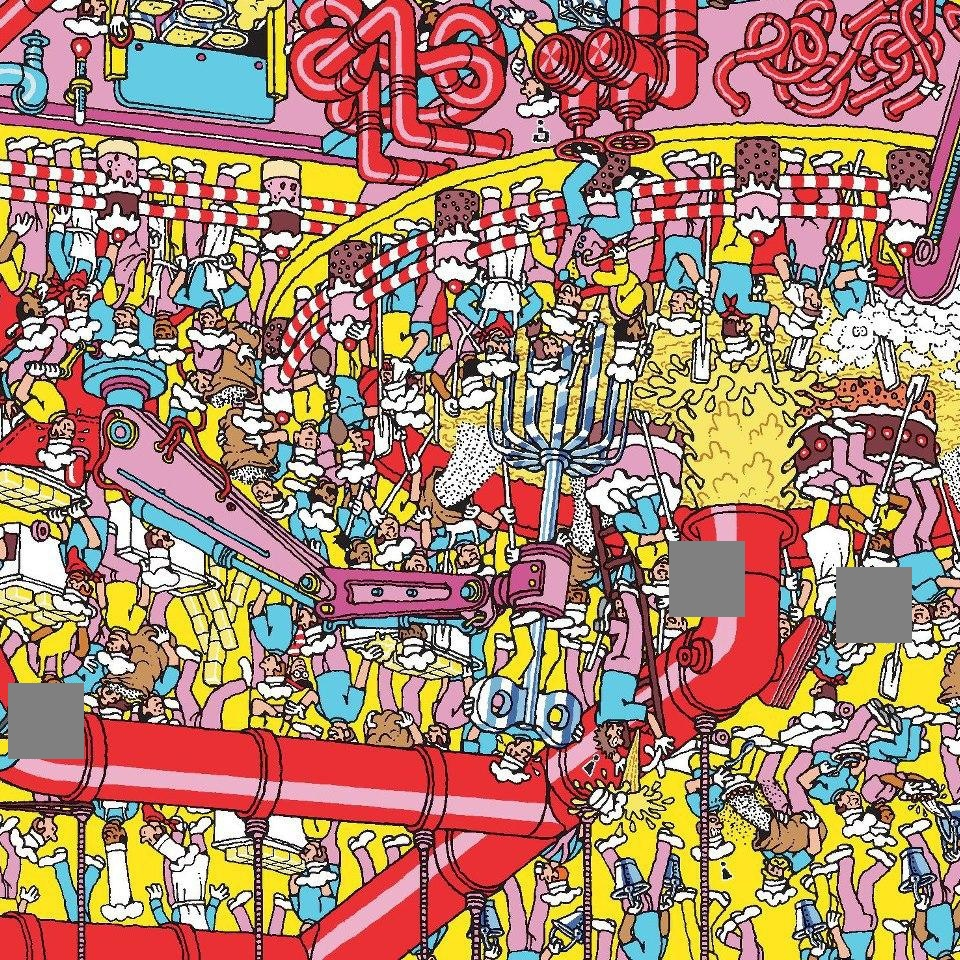waldo: (288, 634, 309, 694)
